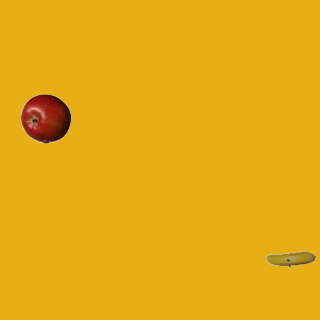Apple Braeburn: (20, 93, 70, 143)
Banana: (265, 234, 315, 284)
